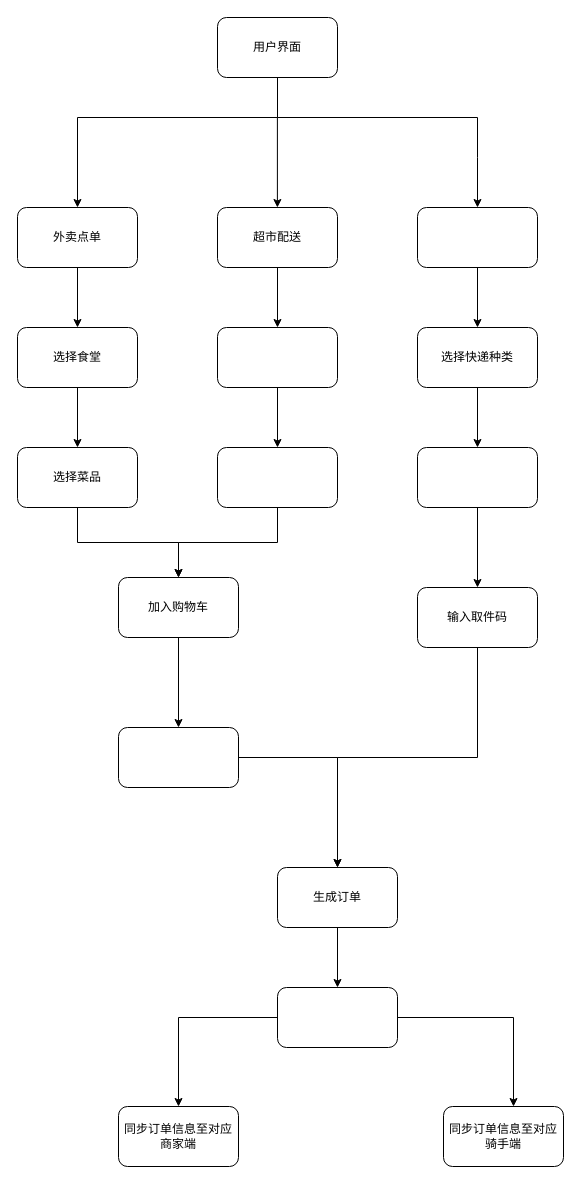
The diagram is 581 pixels wide and 1184 high, and some of its shapes have lost their labels. The shapes that lost their labels are listed below. From the top down, each one's centre as x and y in pixels, then its label:
At pixel 477 237: "快递代取".
At pixel 277 357: "选择超市".
At pixel 277 477: "分类选购商品".
At pixel 477 477: "选择快递公司".
At pixel 178 757: "确定预计到达时间".
At pixel 337 1017: "付款".
